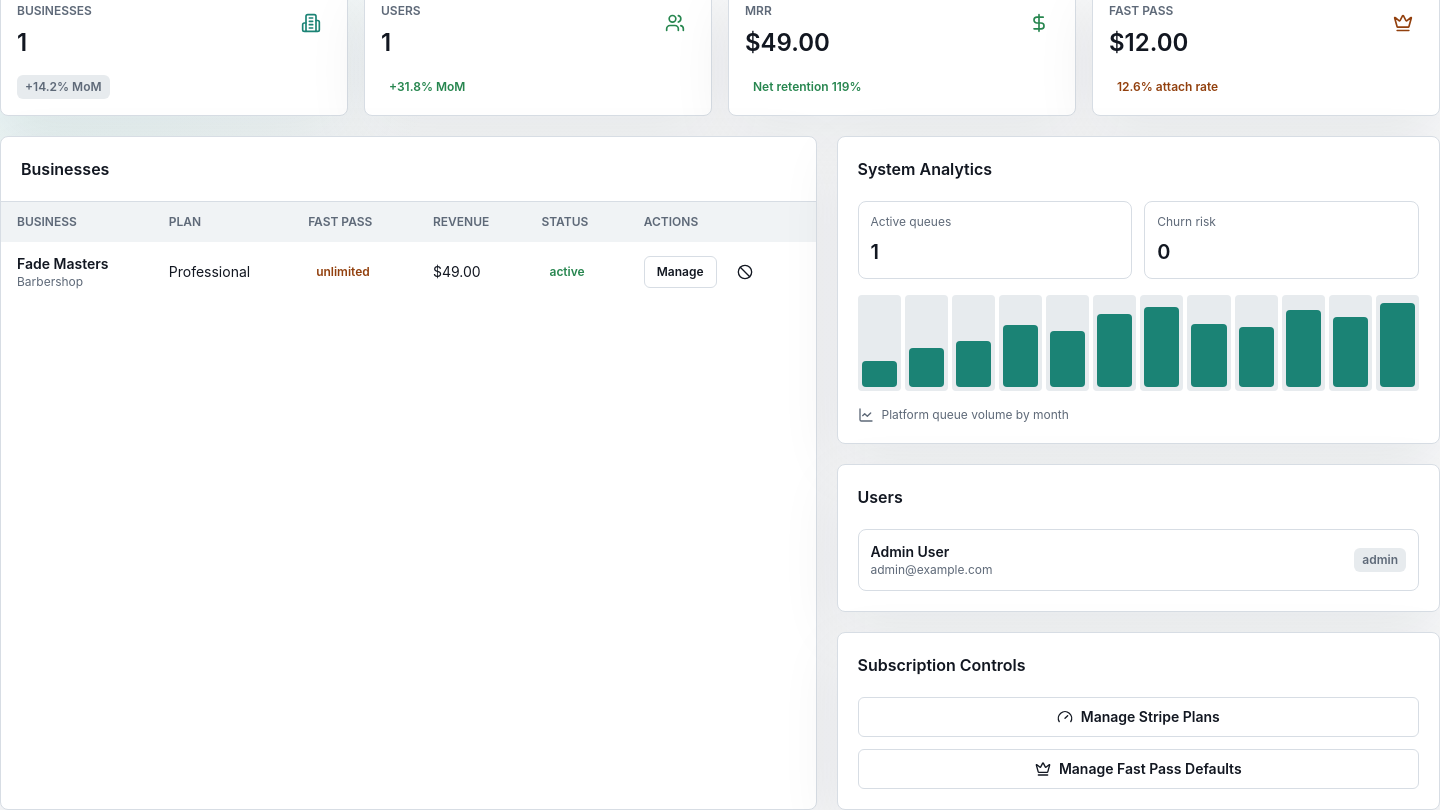
AdminDashboard › shows a visible message when platform action buttons are clicked
(page scrolled)
Click the button "Manage Fast Pass Defaults" at (1138, 769), box [858,749,1419,789]
(page scrolled)
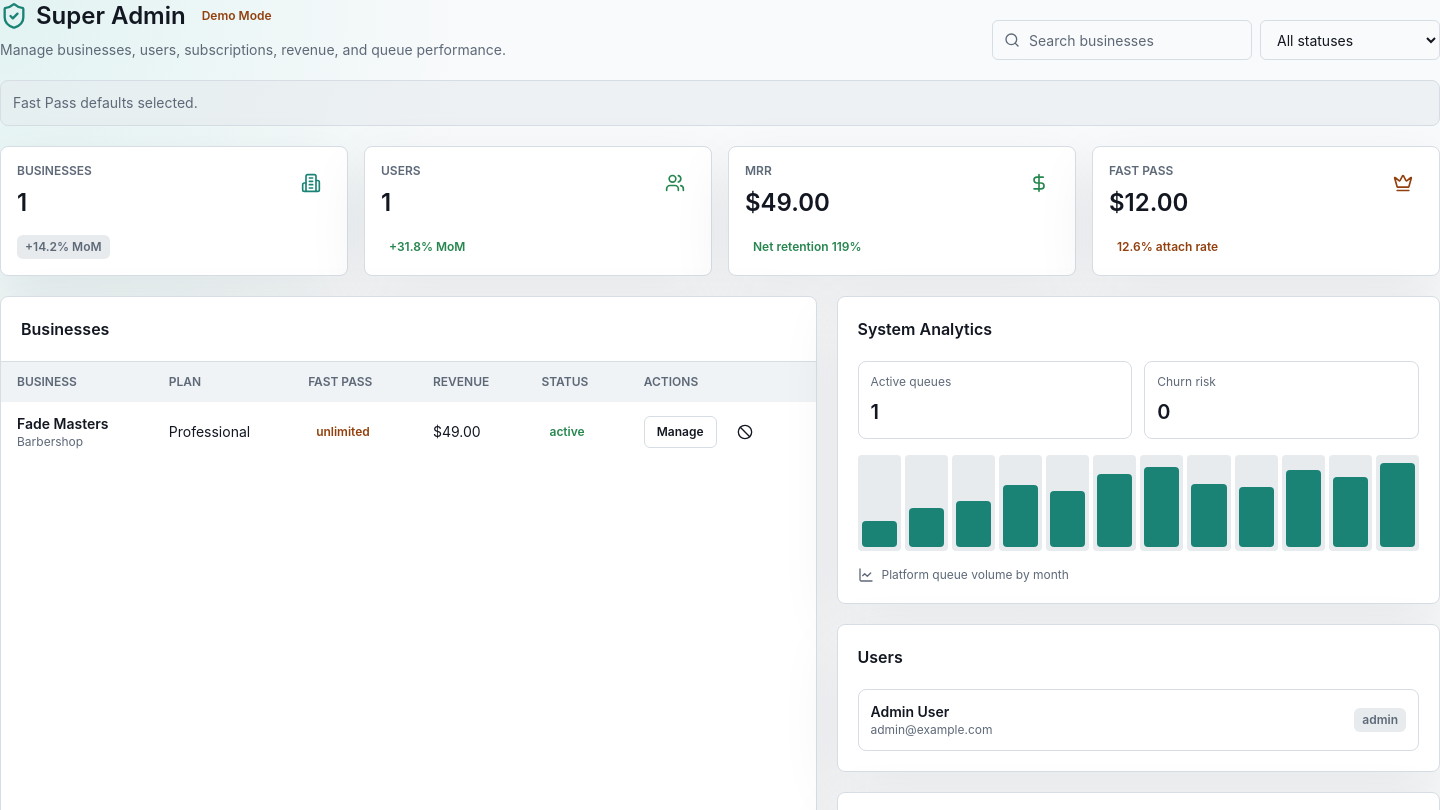
Expected: the message reads "Fast Pass defaults selected.", [13,94,198,111]
